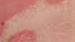plaque psoriasis: (0, 0, 52, 42), (7, 29, 35, 42), (45, 0, 64, 5)
